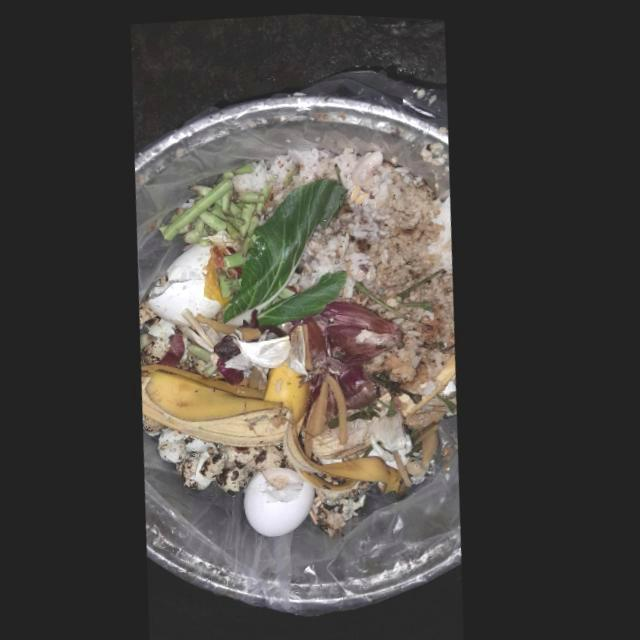left_over_food: (236, 147, 445, 308), (371, 267, 458, 395)
